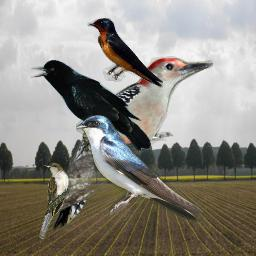Crow: (31, 60, 151, 156)
Cuckoo: (39, 163, 69, 239)
Swallow: (76, 115, 205, 222), (87, 18, 163, 88)
Woodpecker: (52, 56, 213, 231)
